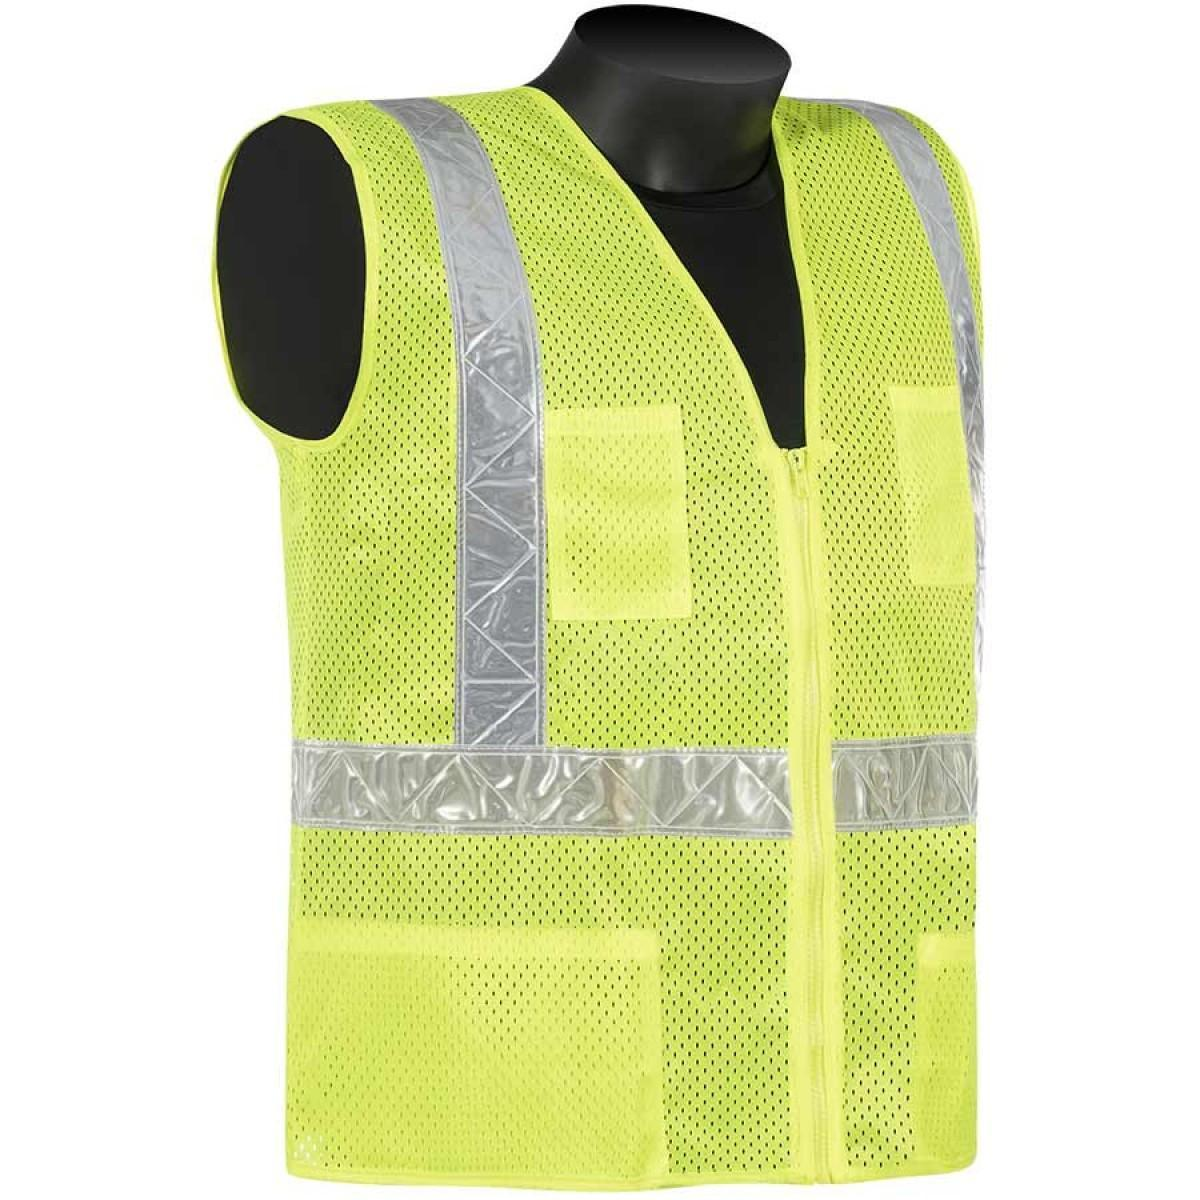vest: (216, 81, 988, 1193)
